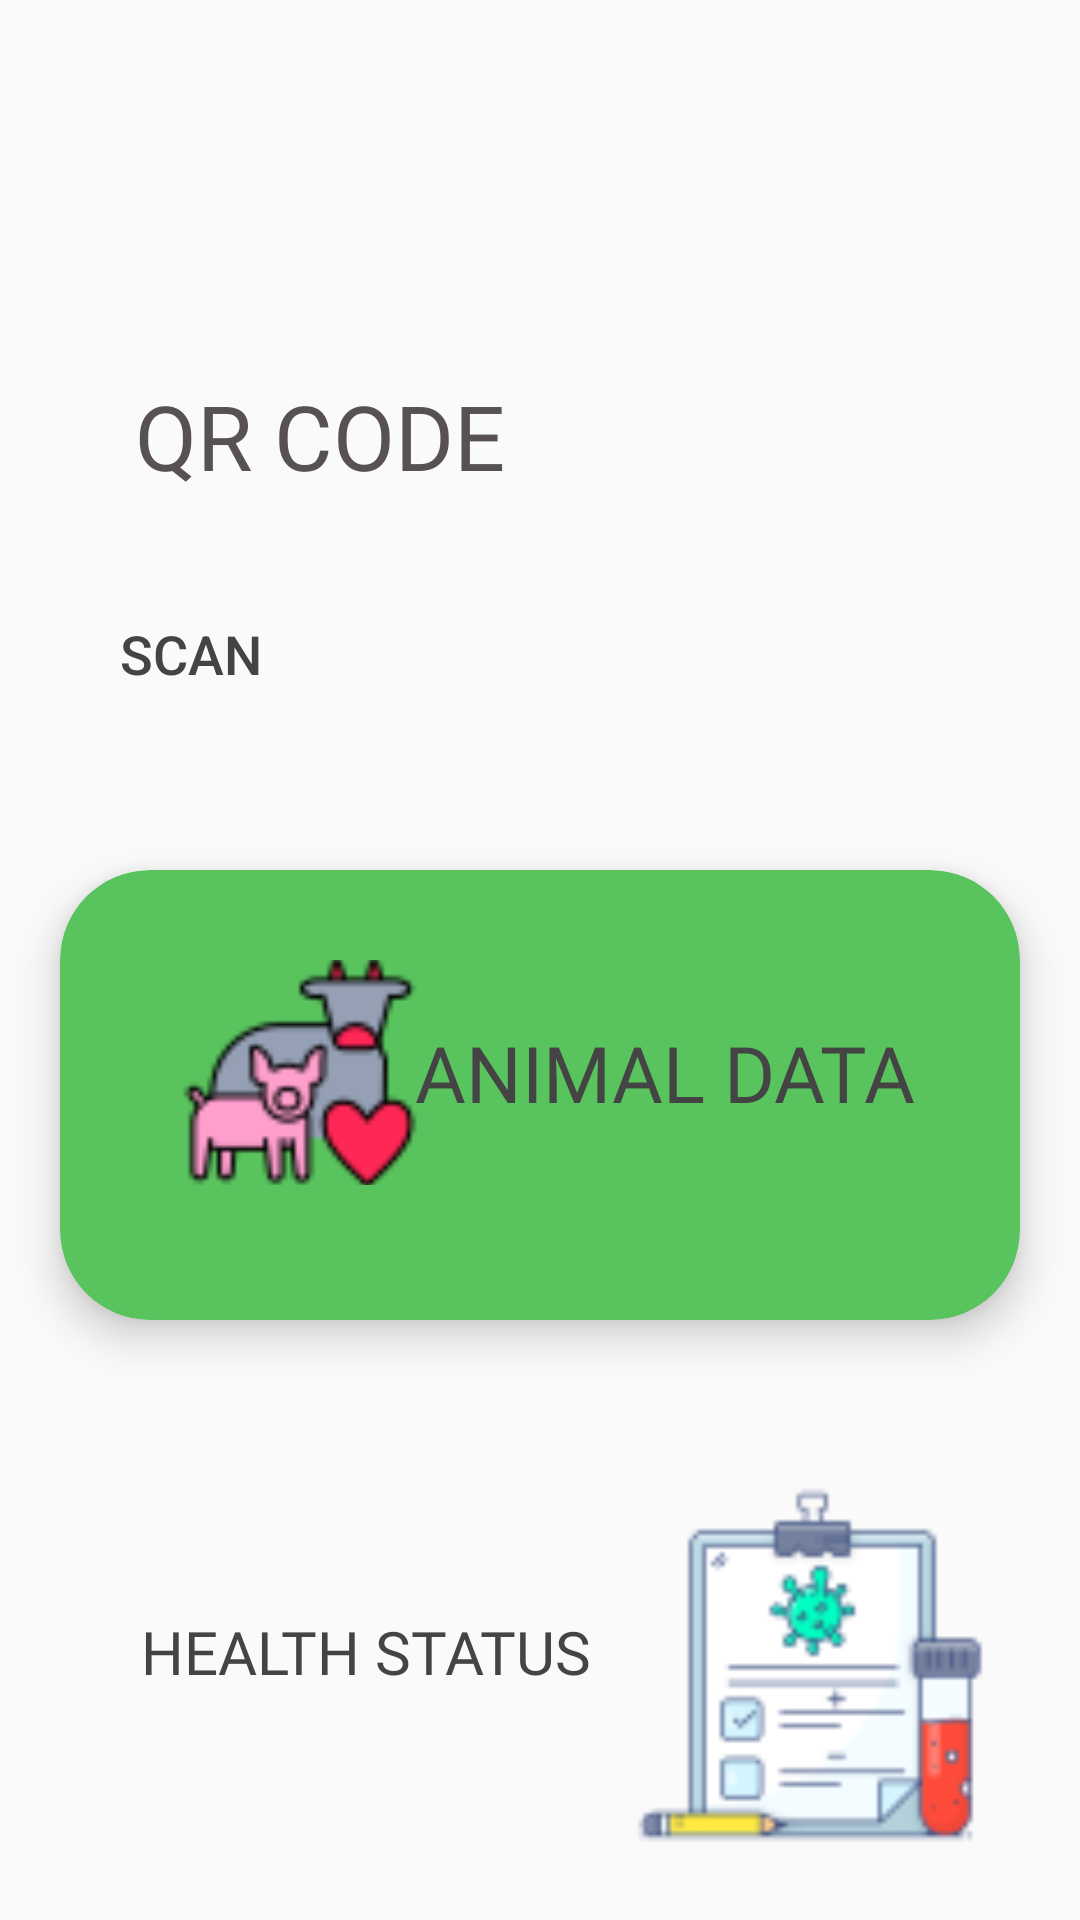

Named icons in this screenshot (1080px×1920px) and their bounding boxes, Rect(x1, y1, x2, y2):
domestic: Rect(184, 960, 465, 1185)
